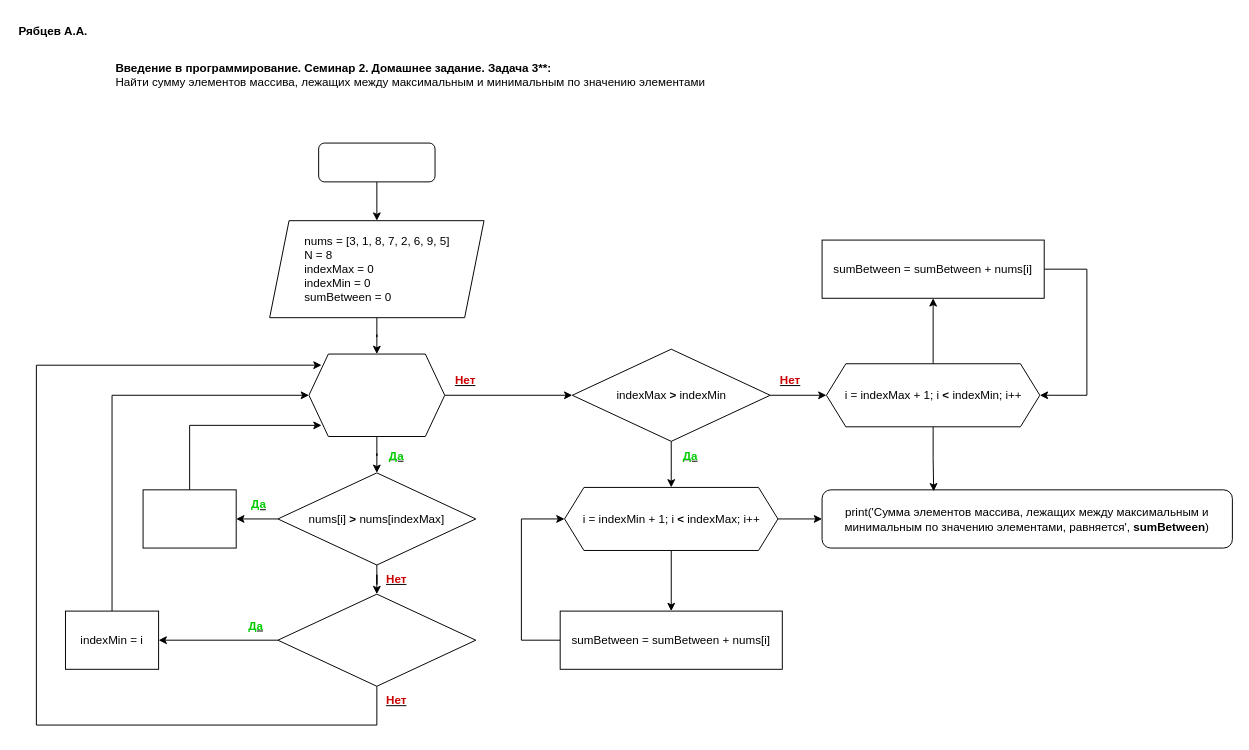
Image size: 1249x750. Some labels were removed from this diagram. The centre of each missing label's shape, as x and y in pixels:
"i = 0; i < N; i++" goes at point 376,394.
"indexMax = i" goes at point 189,518.
"nums[i] < nums[indexMin]" goes at point 376,639.
"Start" goes at point 376,162.
